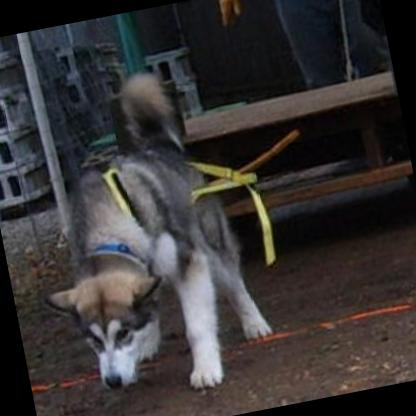malamute: (5, 54, 280, 414)
